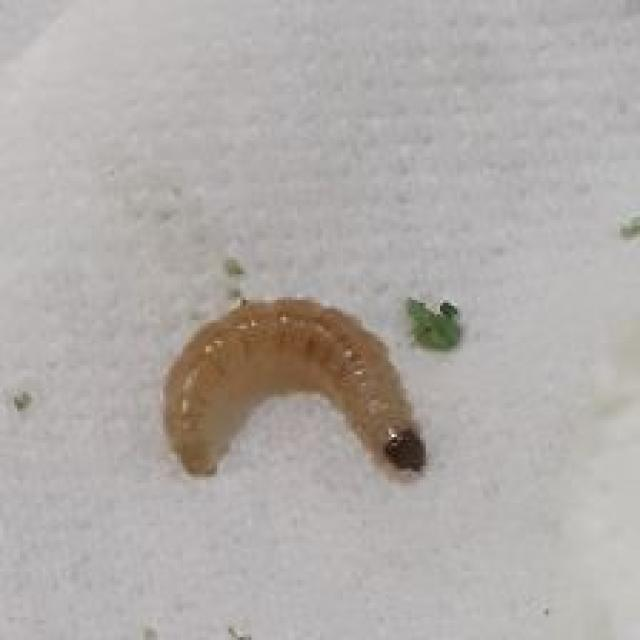white mucus: (106, 277, 454, 526)
